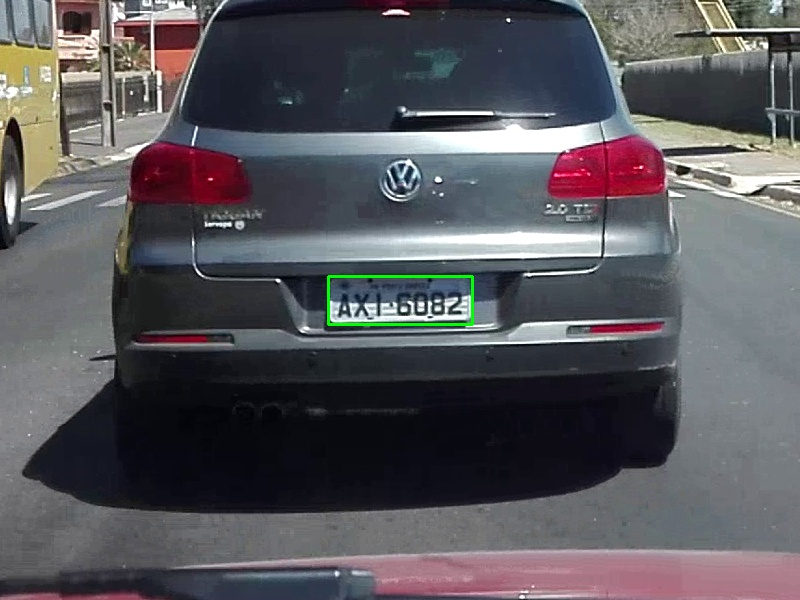placa: (328, 276, 472, 324)
